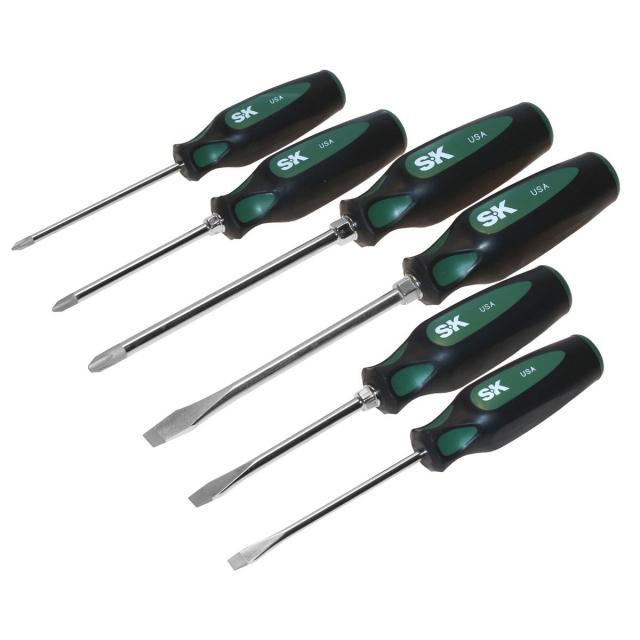screwdriver: (138, 148, 626, 452), (83, 100, 558, 378), (183, 260, 578, 512), (221, 331, 609, 576), (47, 107, 411, 317), (8, 65, 351, 254)
